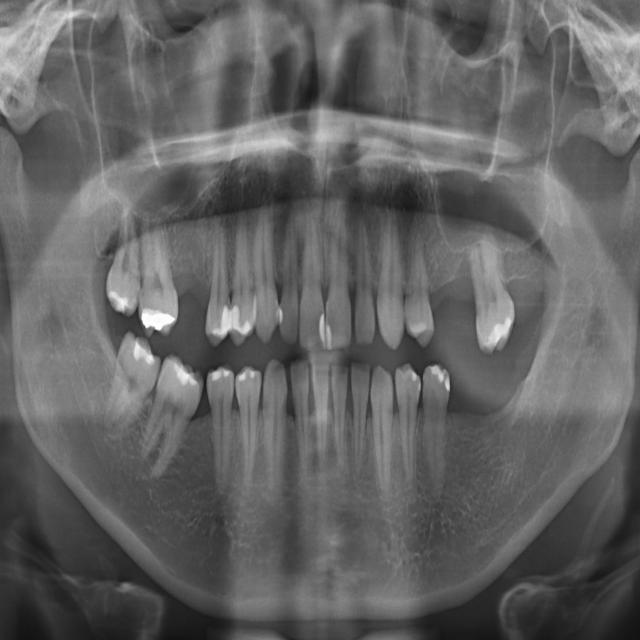3M ESPE Implant: (107, 213, 142, 311)
AGS Medikal Implant: (355, 222, 377, 344)
AMerOss Implant: (378, 212, 404, 346)
Amalgam filling: (395, 225, 436, 349)
BioHorizons Implant: (468, 232, 519, 353)
Caries: (128, 217, 181, 340)
Composite filling: (423, 370, 448, 492)
Cowellmedi Implant: (399, 370, 423, 487)
Crown: (372, 370, 397, 488)
DENTSPLY Implant: (353, 372, 367, 468)
Dentatus Implant: (332, 360, 348, 466)
Dentis Implant: (314, 355, 333, 460)
Dentium Implant: (288, 361, 312, 470)
Euroteknika Implant: (260, 361, 286, 494)
Filling: (238, 369, 258, 486)
Frontier Implant: (200, 369, 236, 489)
Implant: (130, 355, 210, 487)
Keystone Dental Implant: (99, 331, 169, 432)
MIS Implant: (208, 229, 230, 339)
Mandible: (231, 227, 257, 341)
Maxilla: (253, 208, 279, 341)
Megagen Implant: (279, 205, 300, 348)
Neodent Implant: (298, 207, 326, 348)
Neoss Implant: (328, 210, 353, 346)
